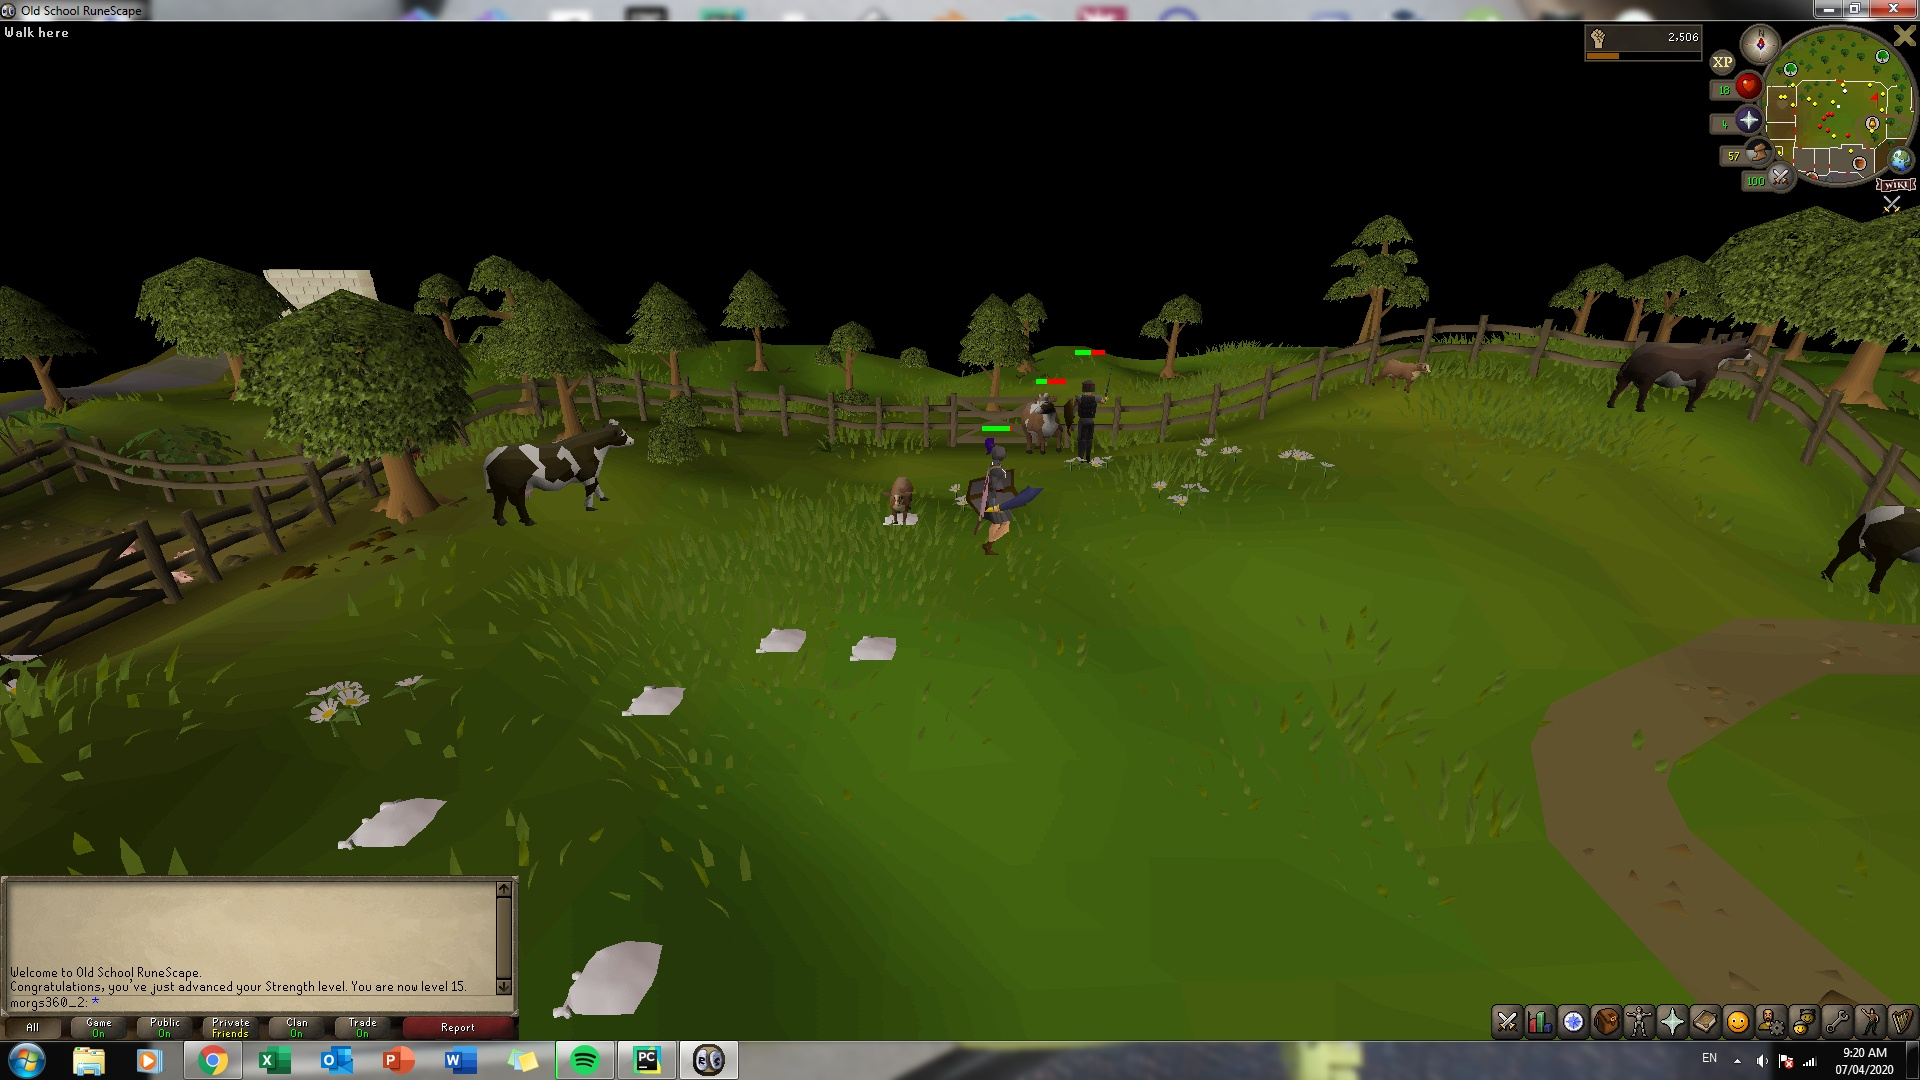cow: (475, 418, 635, 526), (1602, 332, 1757, 419), (1816, 494, 1920, 599), (1016, 390, 1070, 458), (1371, 351, 1432, 394), (884, 472, 919, 524)
player: (971, 439, 1016, 557)
